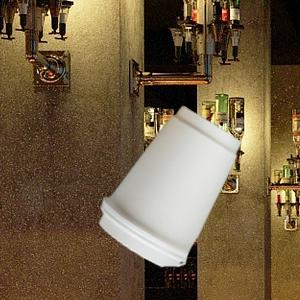cup: (97, 106, 240, 268)
